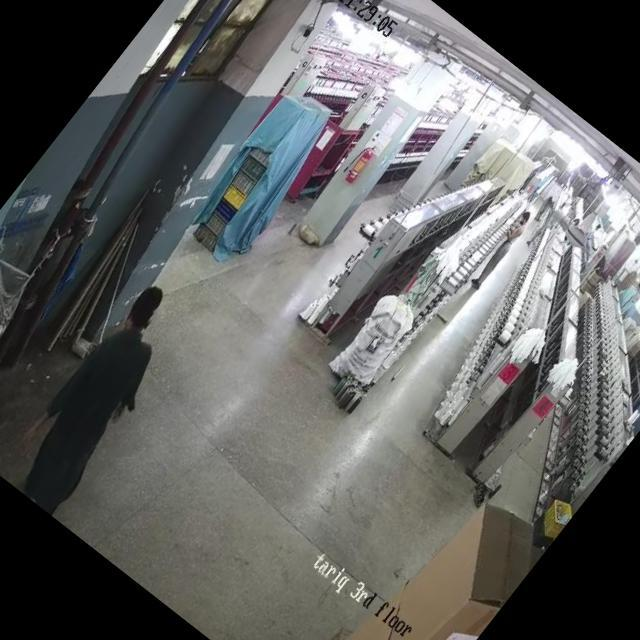person: (0, 284, 213, 527), (460, 208, 539, 302)
